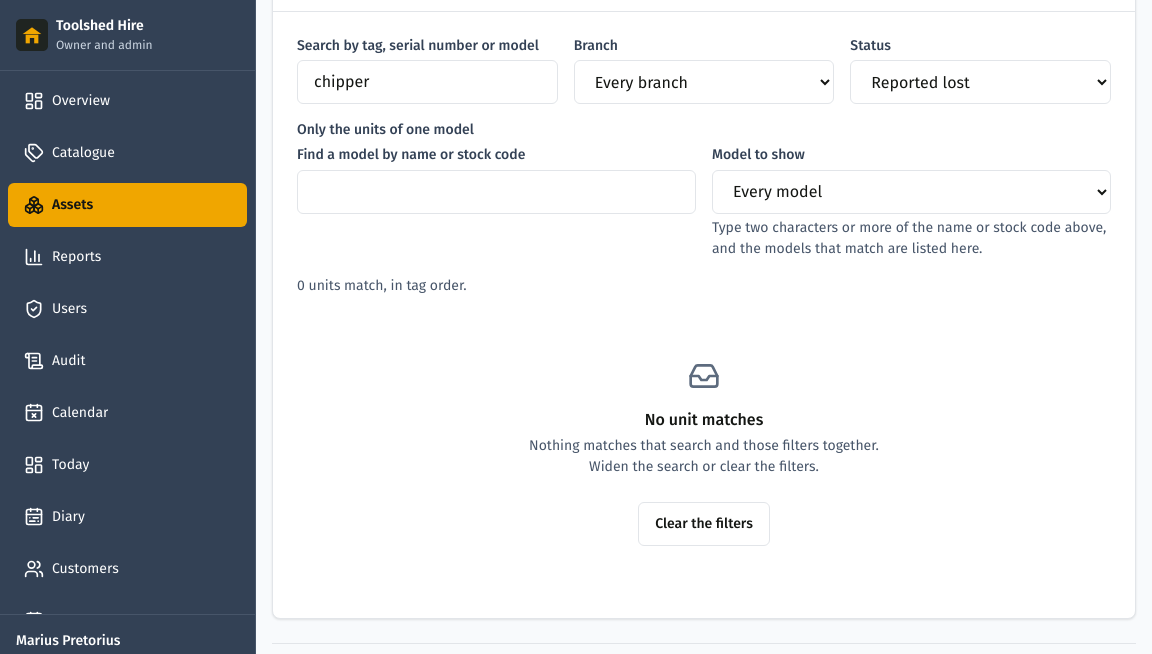
reading the register › says so when nothing matches, and clears the filters
(page scrolled)
Expected: the text "No unit matches" is shown, [645,408,763,432]
Click the button "Clear the filters". click: click(704, 524)
box: [638,502,770,546]
(page scrolled)
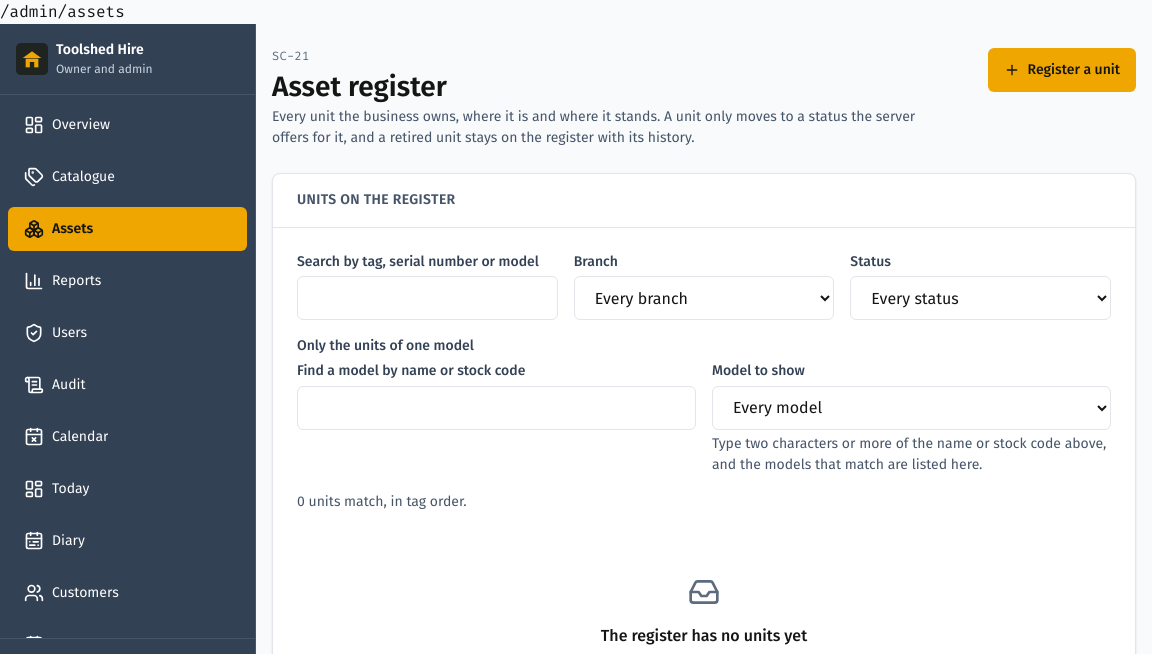
Now the text with test id "current-address" reads "/admin/assets", box [0,1,125,22]
